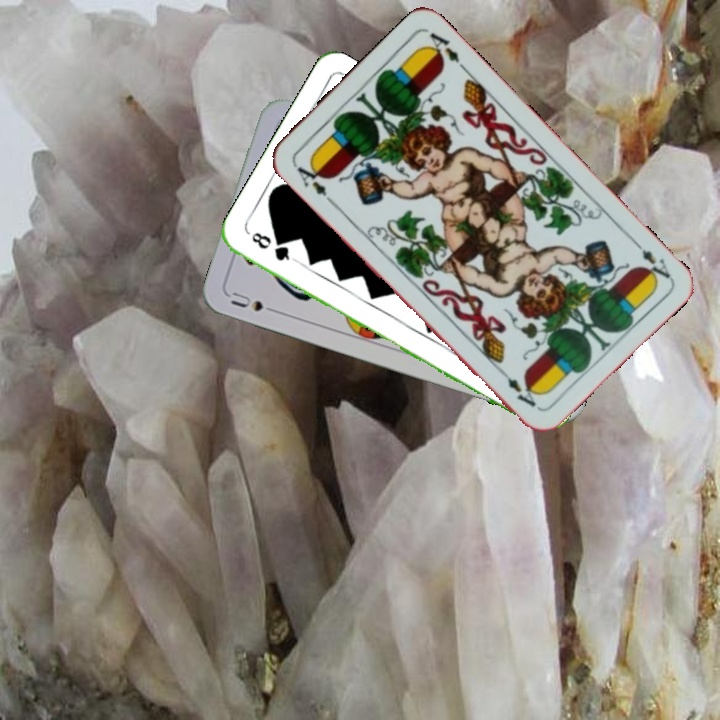EA: (628, 235, 673, 285), (289, 157, 330, 199)
G8: (247, 228, 299, 265)
SU: (227, 287, 283, 316)
